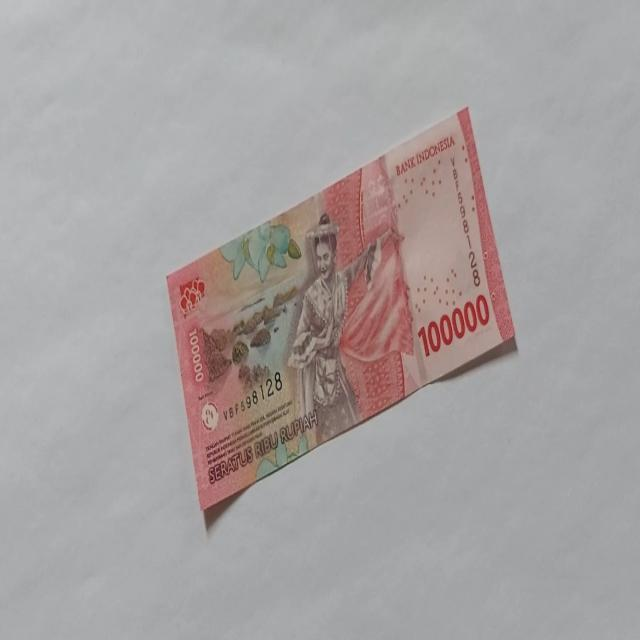seratus ribu rupiah: (166, 105, 516, 514), (286, 210, 384, 440)
